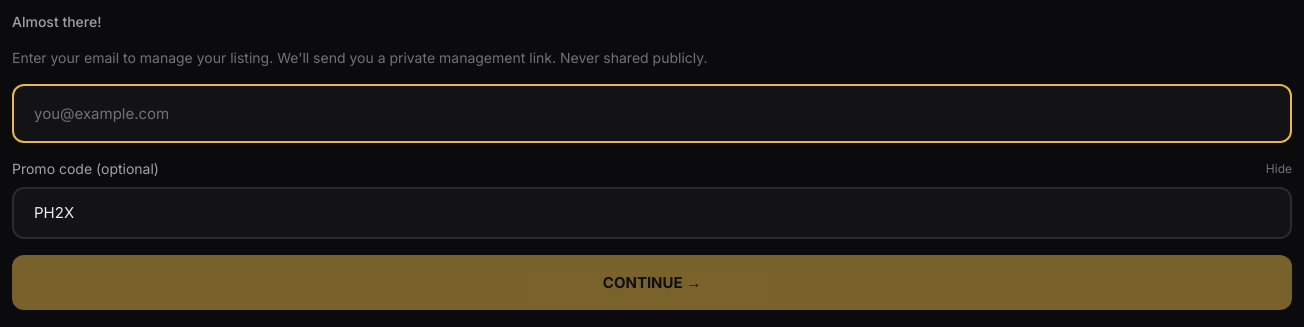
EmailStep promo UI › hides the promo field and clears the code when Hide is clicked
The image size is (1304, 327).
Click the button "Hide" at (1279, 169), box x1=1266 y1=161 x2=1292 y2=177
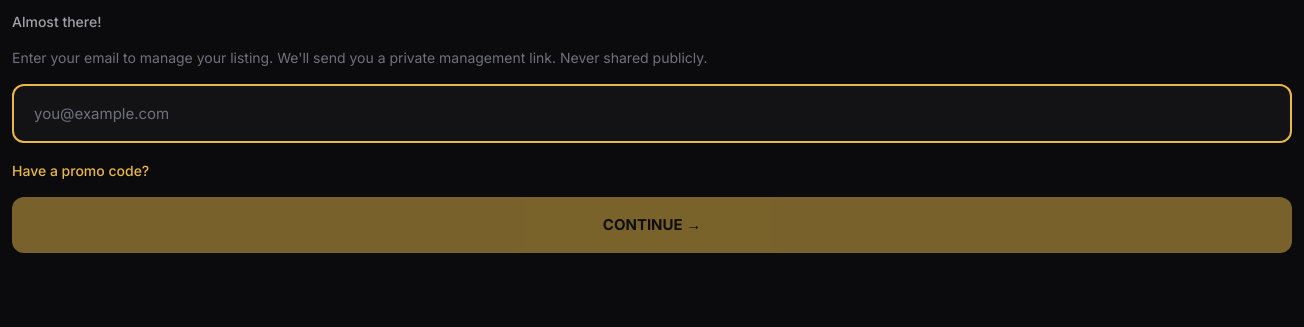
Check: the label labelled "Promo code (optional)" is gone
Check: the button "Have a promo code?" is shown, box x1=12 y1=161 x2=149 y2=181
